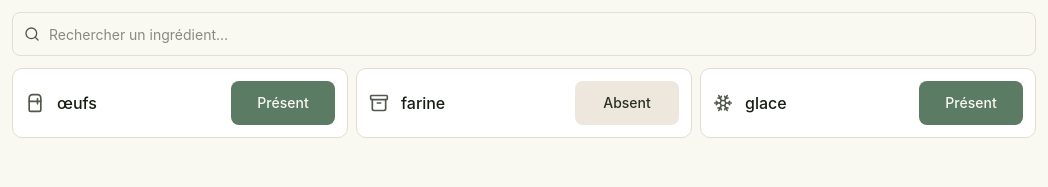
Scenario: StockGrid › annule le changement local si la mise à jour échoue
Check: the text "farine" is shown, box [401,91,445,115]
Click the switch named "farine".
click(627, 103)  # box [575,81,679,125]
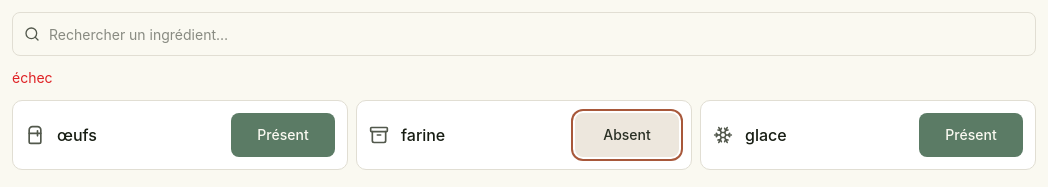
Check: the switch named "farine" reads "Absent", box [575,113,679,157]
Check: the message reads "échec", box [12,69,53,86]
